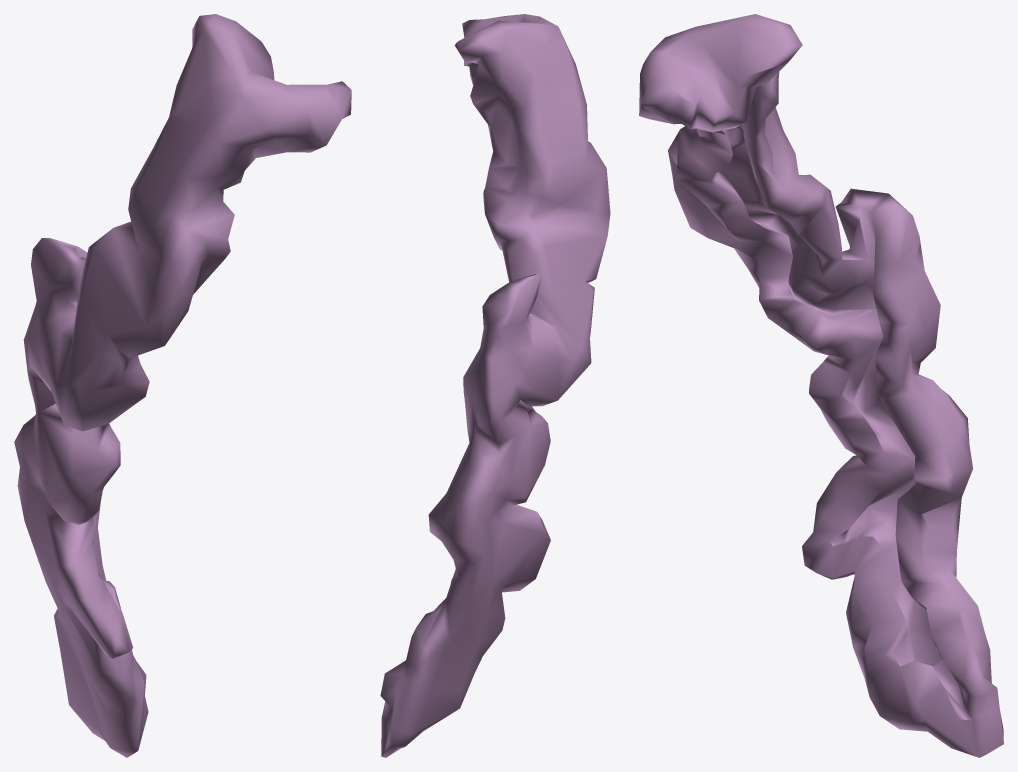
3 renders of one model, left to right at view 1: azimuth 30°, elevation 25°; view 2: azimuth 150°, elevation 25°; view 3: azimuth 270°, elevation 25°, orthographic. The views are drawn at different scales.
Visible parts, largest first — view 1: 右侧颞中回; view 2: 右侧颞中回; view 3: 右侧颞中回.
Boxes of the visible parts, <box> form: 右侧颞中回: <box>14,14,351,757</box>; 右侧颞中回: <box>380,14,610,757</box>; 右侧颞中回: <box>639,14,1003,757</box>.
Size of the model in its own units: 0.0414 by 0.1479 by 0.0667.
